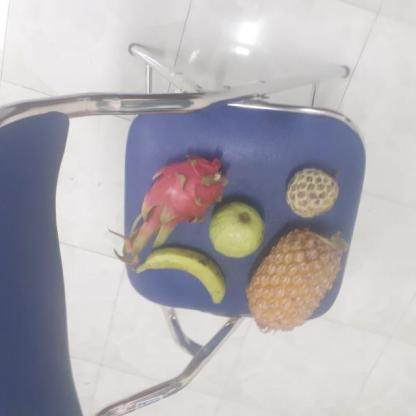annona: (287, 167, 344, 220)
banana: (142, 245, 228, 308)
guava: (208, 200, 269, 260)
pineapple: (248, 226, 349, 332)
pitaya: (145, 158, 231, 228)
